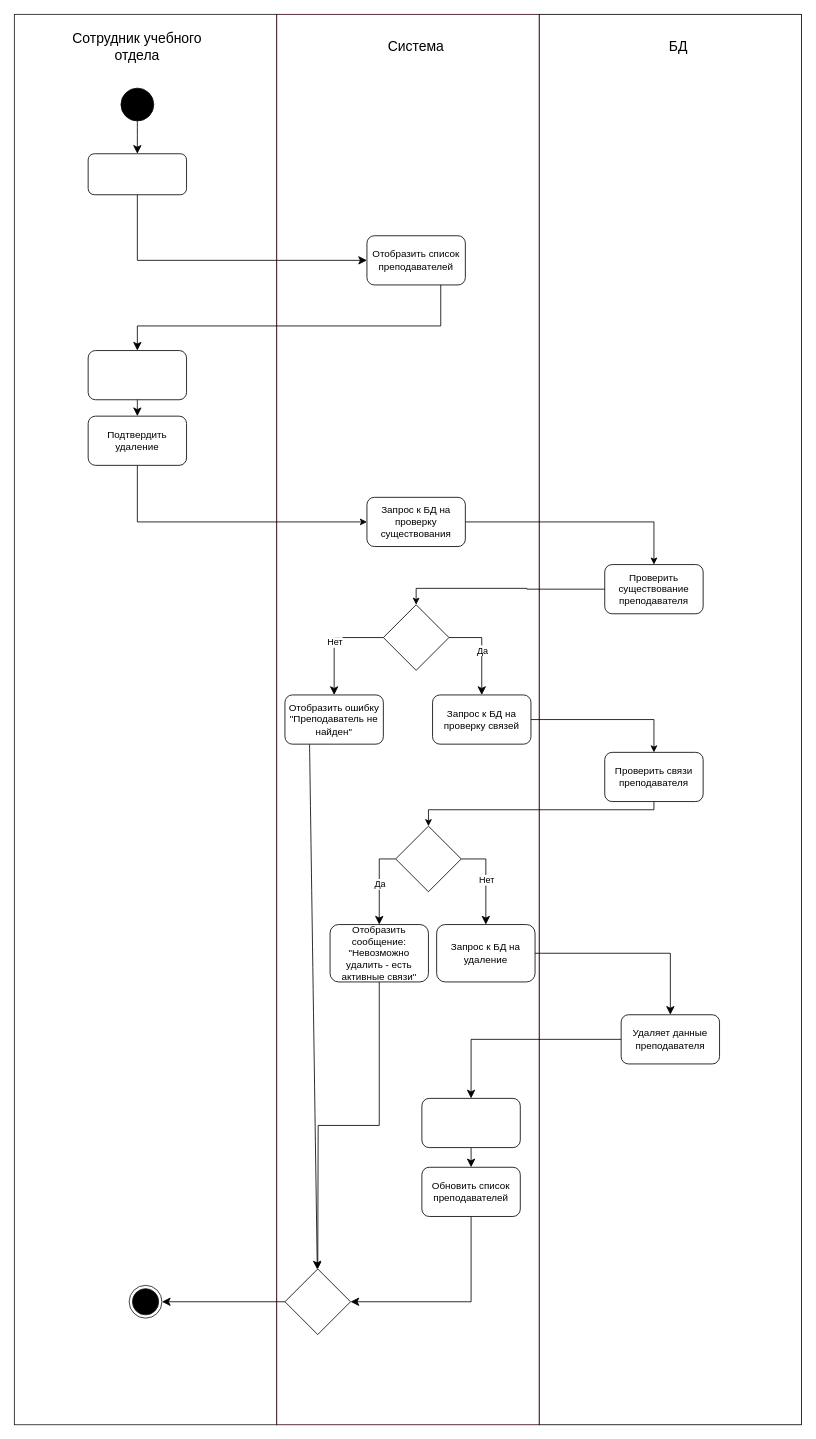
This 816x1439 diagram has some shape labels left out. Here are the shapes that lost their labels. From the top down, the centre of each, then its label:
(137,174): Запрос на удаление преподавателя
(137,375): Выбрать преподавателя
(416,637): Преподаватель существует?
(428,858): Есть активные связи?
(470,1123): Отобразить сообщение "Преподаватель успешно удалён"
